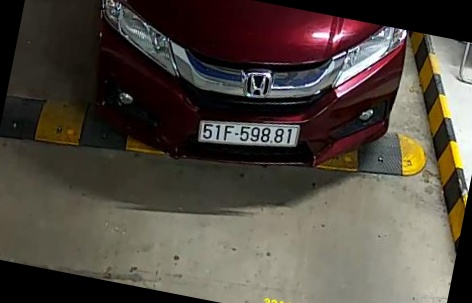plate: (195, 116, 301, 155)
